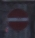No entry: (5, 6, 30, 33)
